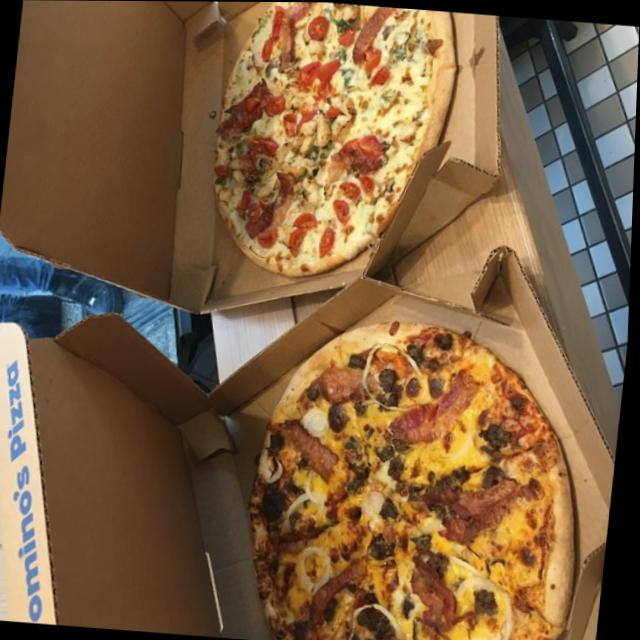pizza: (232, 312, 608, 640), (195, 1, 464, 289)
